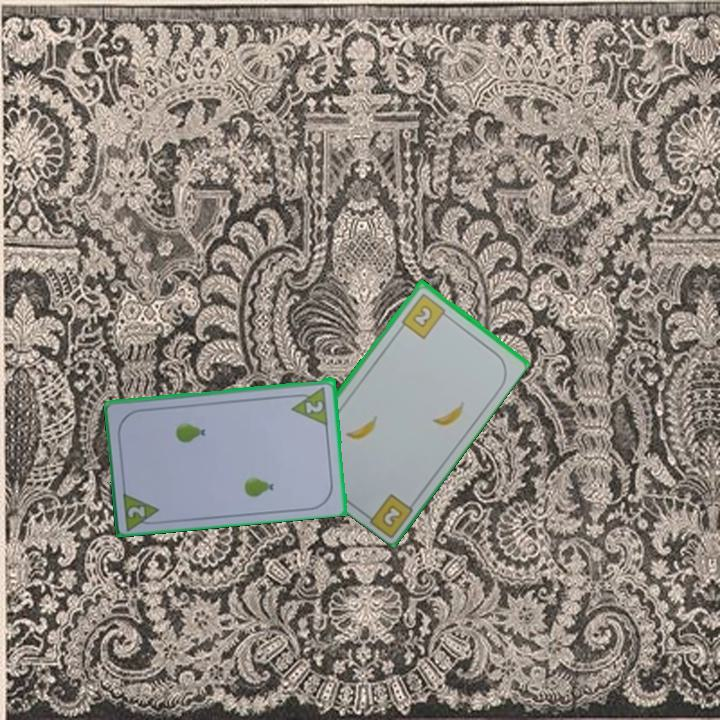2b: (398, 289, 452, 341), (378, 501, 406, 530)
2p: (119, 487, 164, 531), (288, 382, 331, 426)
